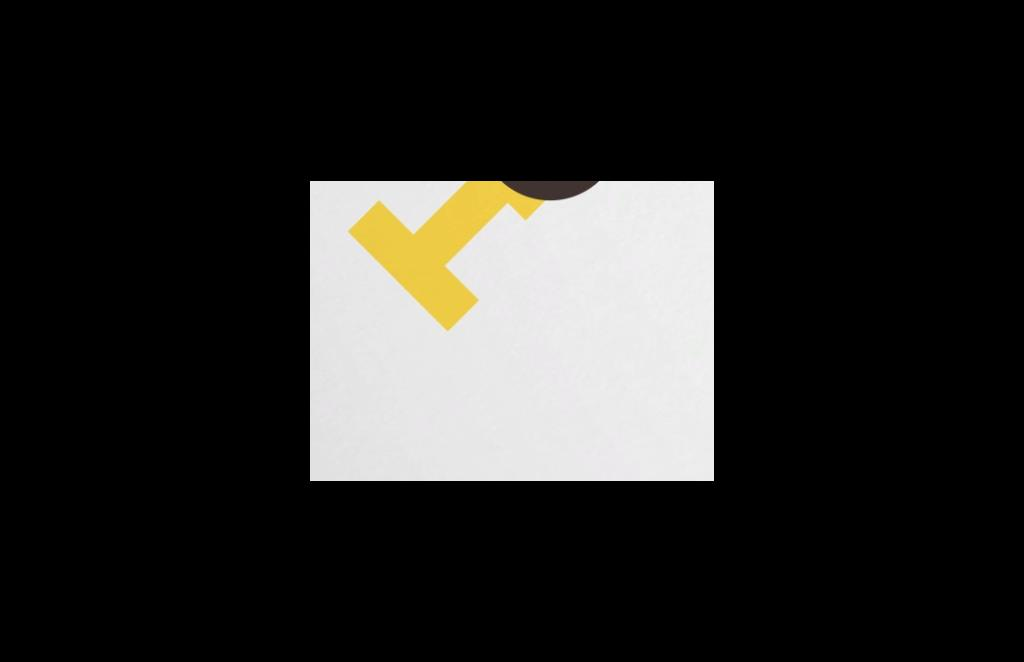connected_station: (455, 181, 632, 210)
line_endpoint: (338, 195, 493, 338)
